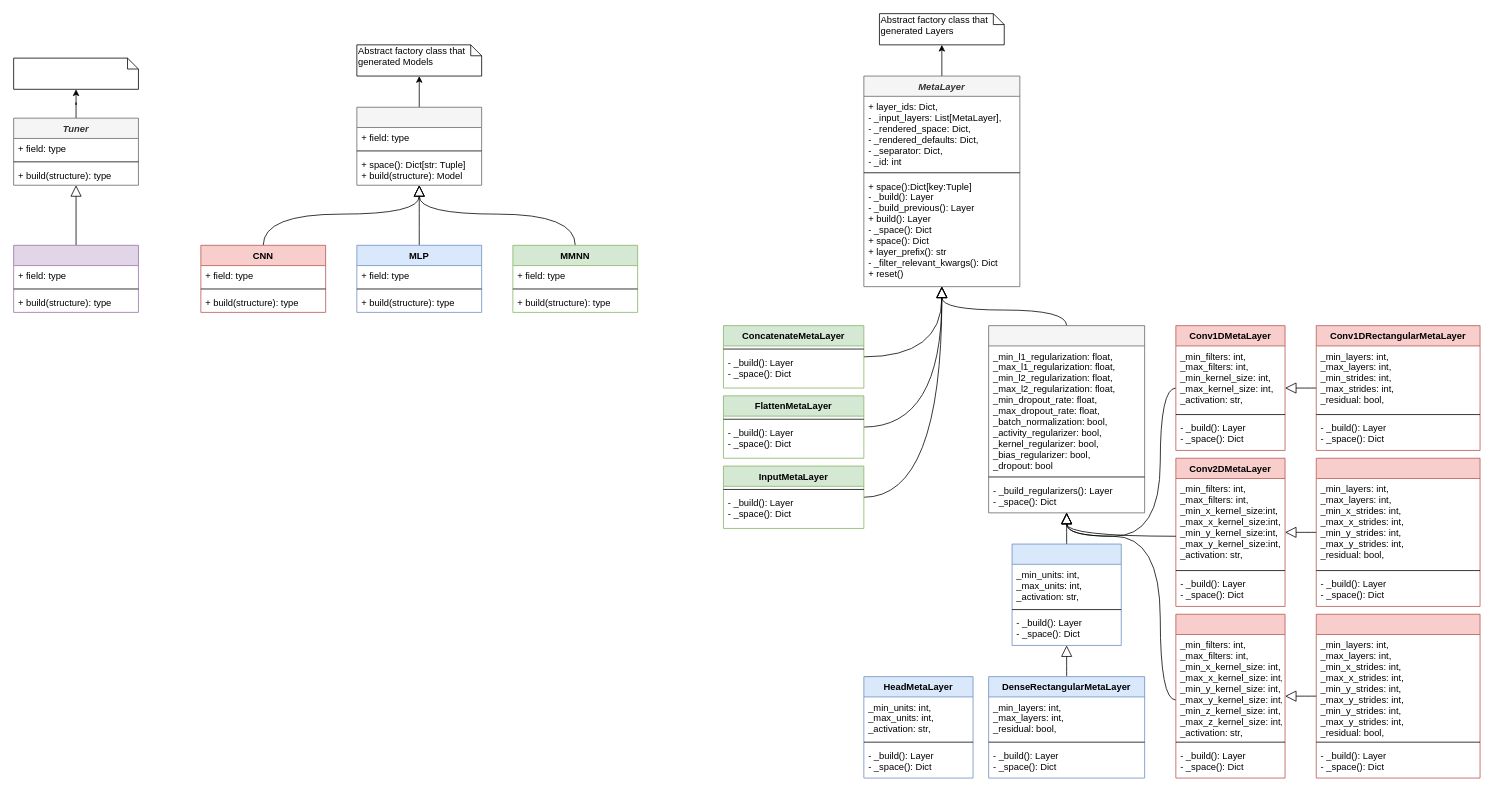
Image size: 1494x794. Some labels were removed from this diagram. The shapes that lost their labels are listed below. From the top down, each one's box as (x1, y1, x2, y2) in pixels, then its label:
(13, 57, 138, 89): Abstract class that tunes a meta-model
(356, 106, 482, 185): MetaModel
(13, 245, 138, 312): RayBOTuner
(988, 325, 1145, 513): RegularizedMetaLayer
(1315, 457, 1480, 606): Conv2DRectangularMetaLayer
(1011, 543, 1121, 645): DenseMetaLayer
(1175, 613, 1285, 778): Conv3DMetaLayer
(1315, 613, 1480, 778): Conv3DRectangularMetaLayer
